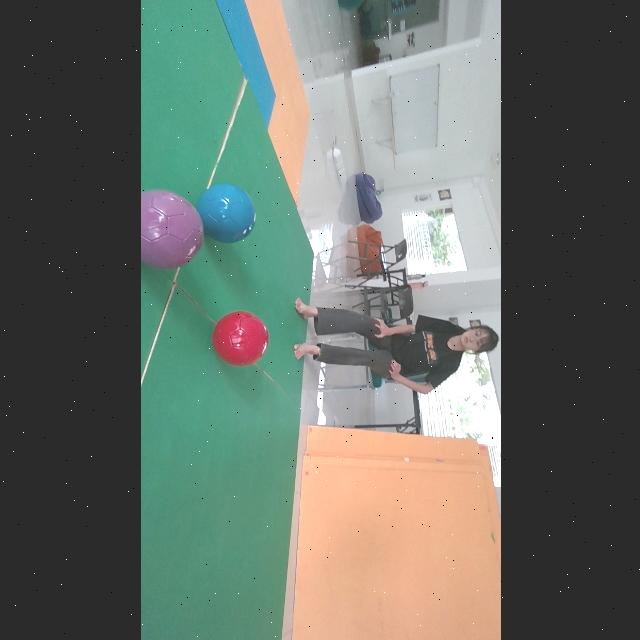B: (196, 183, 255, 243)
P: (140, 190, 202, 268)
R: (212, 311, 268, 366)
